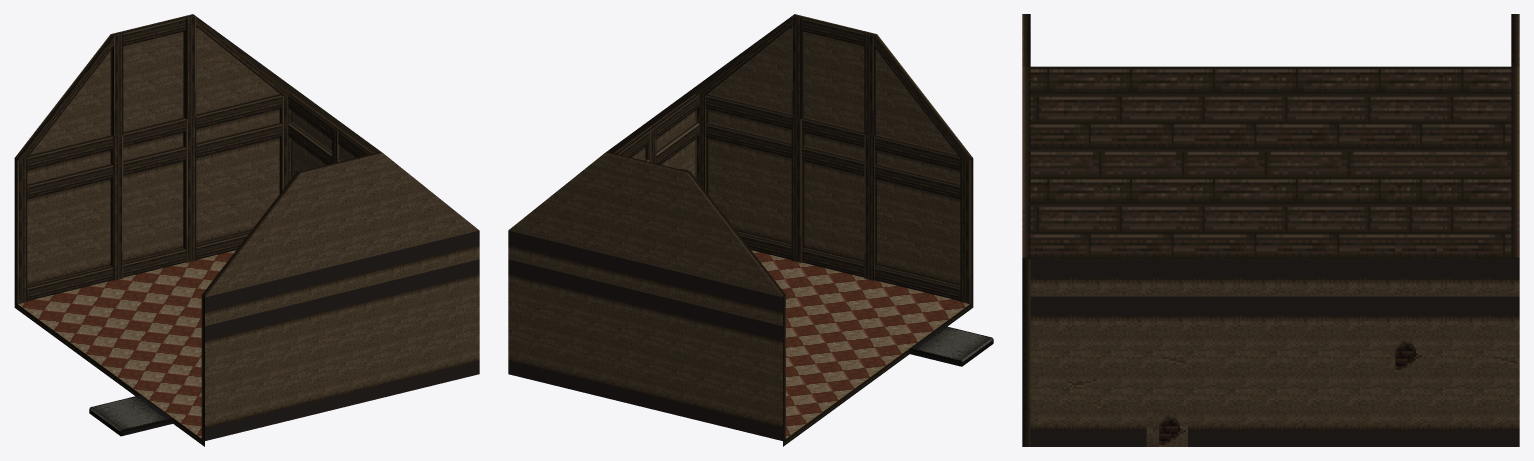
Rendered from EnvBdgMD_City_A_Indoor_SB_A.FBX.
3 views of the same model, side by side, from view 1: azimuth 30°, elevation 25°; view 2: azimuth 150°, elevation 25°; view 3: azimuth 270°, elevation 25° (orthographic). The views are drawn at different scales.
Parts seen in each view (by area): view 1: EnvBdgMD_City_A_Indoor_SB_A; view 2: EnvBdgMD_City_A_Indoor_SB_A; view 3: EnvBdgMD_City_A_Indoor_SB_A.
Boxes of the visible parts, <box> form: EnvBdgMD_City_A_Indoor_SB_A: <box>14,14,479,446</box>; EnvBdgMD_City_A_Indoor_SB_A: <box>508,14,993,446</box>; EnvBdgMD_City_A_Indoor_SB_A: <box>1022,14,1519,446</box>.
Size of the model in its own units: 1190 by 870 by 1200.
